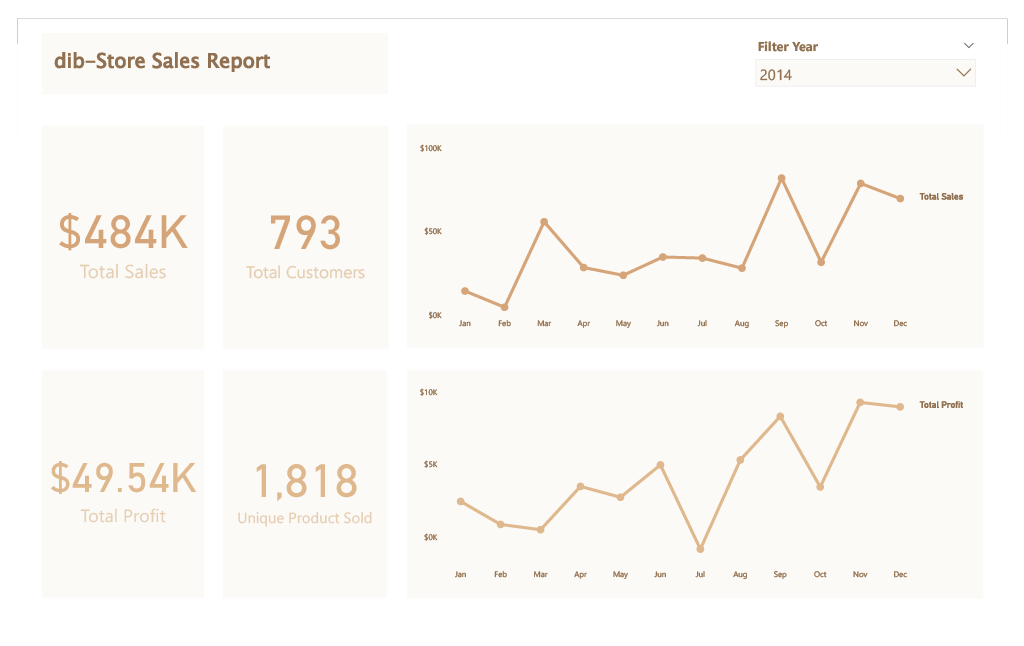

The dashboard page shown, as its layout file describes it:
{"tool":"powerbi","page":{"name":"Overview","canvas":[1330,820],"ordinal":0},"visuals":[{"type":"shape","box":[31.7,20,465,81.7],"z":0},{"type":"shape","box":[523.3,143.3,775,300],"z":1000},{"type":"slicer","fields":{"Values":["DimDate.Year"]},"box":[981.7,20,316.7,81.7],"z":2000},{"type":"card","fields":{"Values":["FactSales.Total Sales"]},"box":[31.2,143.8,217.5,300],"z":3000},{"type":"card","fields":{"Values":["FactSales.Total Profit"]},"box":[31.2,473.8,217.5,306.2],"z":4000},{"type":"card","fields":{"Values":["DimCustomer.Total Customers"]},"box":[275,143.8,222.5,300],"z":5000},{"type":"card","fields":{"Values":["DimProduct.temp"]},"box":[275,473.8,221.2,306.2],"z":6000},{"type":"lineChart","fields":{"Category":["DimDate.Month Name Abb"],"Y":["FactSales.Total Sales"]},"box":[535,160,745,268.3],"z":7000},{"type":"shape","box":[523.3,473.3,775,306.7],"z":8000},{"type":"lineChart","fields":{"Category":["DimDate.Month Name Abb"],"Y":["FactSales.Total Profit"]},"box":[535,488.3,745,276.7],"z":9000},{"type":"textbox","box":[42.5,31.2,398.8,55],"z":10000}]}

Visuals, with their boxes in screenshot pixels (x1, y1, x2, y2), scaled from the page's 1330x820 canvas onto the 1024x646 screenshot:
shape: detection(24, 16, 382, 80)
shape: detection(403, 113, 1000, 349)
slicer - DimDate.Year: detection(756, 16, 1000, 80)
card - FactSales.Total Sales: detection(24, 113, 191, 350)
card - FactSales.Total Profit: detection(24, 373, 191, 614)
card - DimCustomer.Total Customers: detection(212, 113, 383, 350)
card - DimProduct.temp: detection(212, 373, 382, 614)
lineChart - DimDate.Month Name Abb x FactSales.Total Sales: detection(412, 126, 986, 337)
shape: detection(403, 373, 1000, 614)
lineChart - DimDate.Month Name Abb x FactSales.Total Profit: detection(412, 385, 986, 603)
textbox: detection(33, 25, 340, 68)
